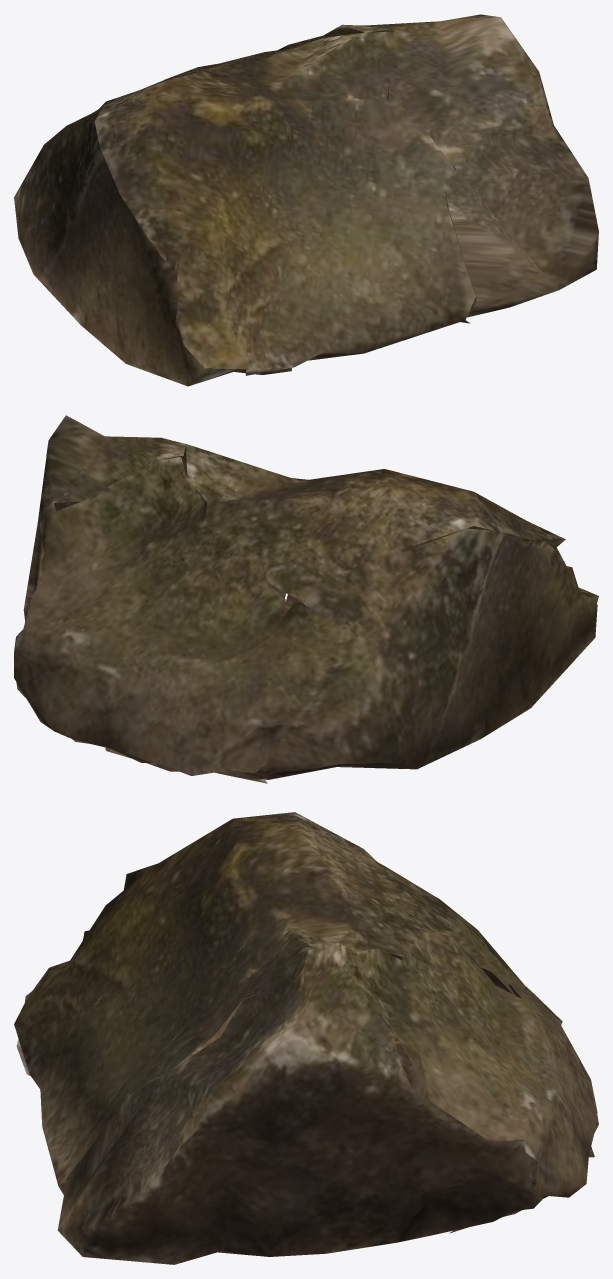
File: rock_c.glb
The picture shows the model from 3 angles, top to bottom: view 1: azimuth 30°, elevation 25°; view 2: azimuth 150°, elevation 25°; view 3: azimuth 270°, elevation 25°; orthographic projection. The views are drawn at different scales.
Parts seen in each view (by area): view 1: rock_c; view 2: rock_c; view 3: rock_c.
Part boxes in pixels (x1,y1,x2,y2): rock_c: [14, 14, 598, 386]; rock_c: [14, 415, 598, 783]; rock_c: [14, 812, 598, 1264].
Size of the model in its own units: 2.14 by 1.1 by 2.08.
Materials: 1 (1 with a texture image).
